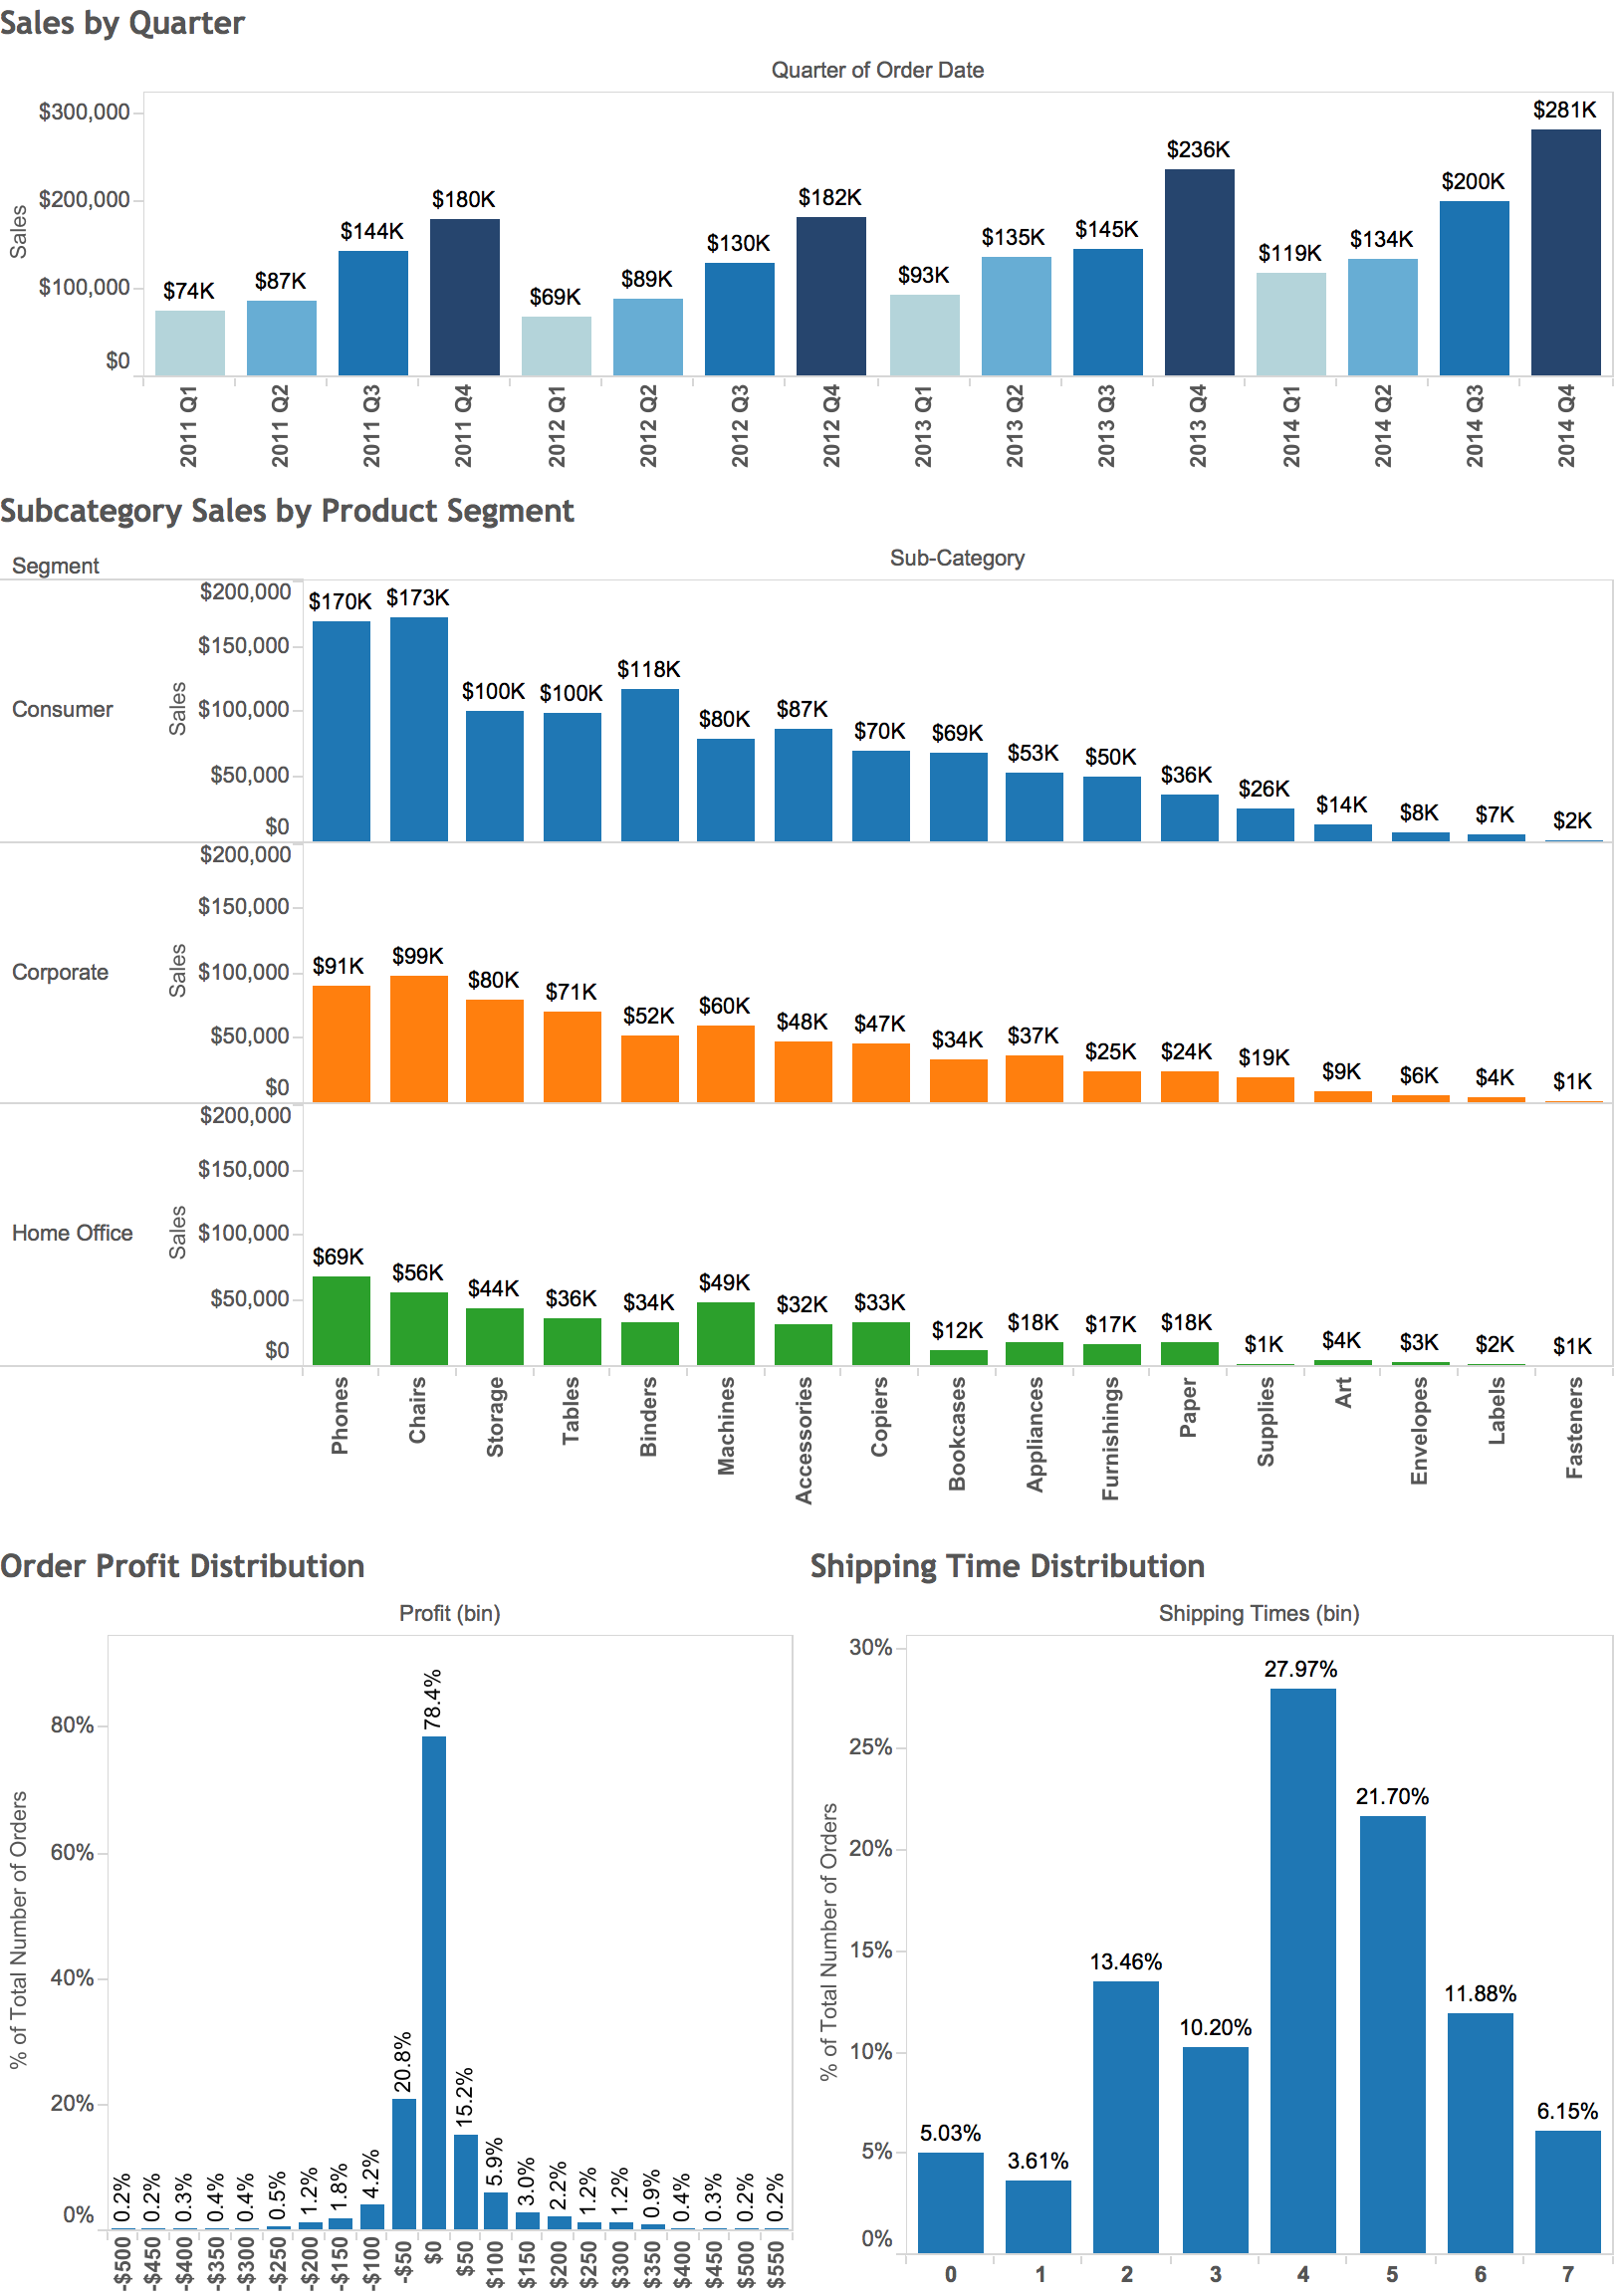

What the dashboard file says about the page in this screenshot:
{"tool":"tableau","page":{"name":"Dashboard 1","canvas":[827,1169],"ordinal":0},"visuals":[{"type":"worksheet","title":"Sheet 4","mark":"Bar","rows":["Sales"],"cols":["Order Date"],"box":[0,0,823,249.5]},{"type":"worksheet","title":"Sheet 3","mark":"Automatic","rows":["Segment","Sales"],"cols":["Sub-Category"],"box":[0,249.5,823,529.5]},{"type":"worksheet","title":"Sheet 1","mark":"Bar","rows":["Calculation_655133052507123712"],"box":[0,779,411.5,390]},{"type":"worksheet","title":"Sheet 5","mark":"Automatic","rows":["Calculation_655133052507123712"],"box":[411.5,779,411.5,390]}]}

Visuals, with their boxes in screenshot pixels (x1, y1, x2, y2), scaled from the page's 827x1169 canvas onto the 1615x2296 screenshot:
"Sheet 4" worksheet (Bar marks): <bbox>0, 0, 1607, 490</bbox>
"Sheet 3" worksheet: <bbox>0, 490, 1607, 1530</bbox>
"Sheet 1" worksheet (Bar marks): <bbox>0, 1530, 804, 2295</bbox>
"Sheet 5" worksheet: <bbox>804, 1530, 1607, 2295</bbox>
